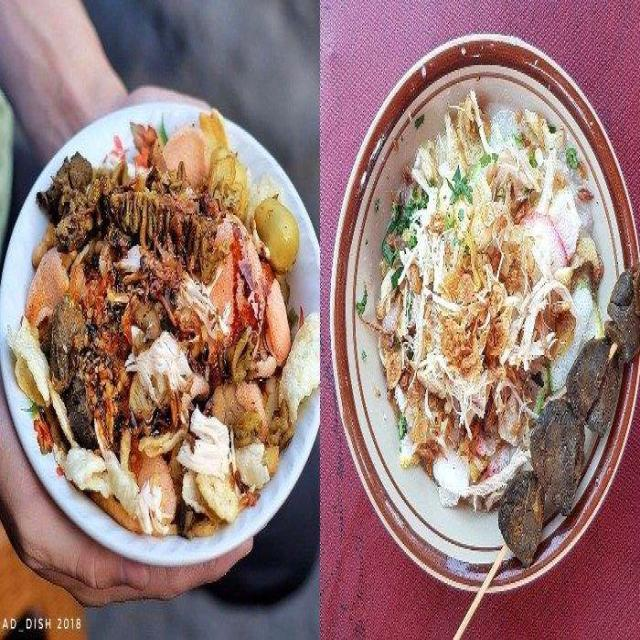bubur ayam: (14, 106, 318, 538), (376, 89, 606, 513)
mangkuk: (328, 30, 640, 599), (0, 95, 320, 608)
